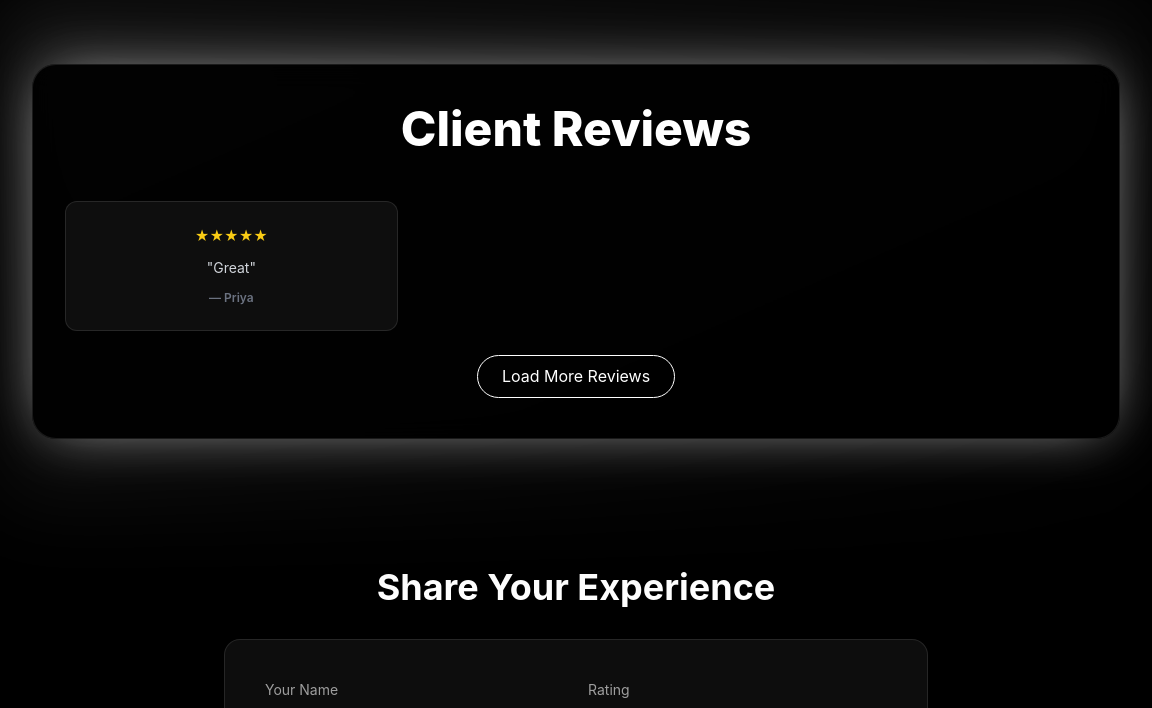
Test: Load More failure shows an error and does not crash
Expected: the text "— Priya" is shown, x1=209 y1=290 x2=254 y2=305
Step 1. Click the button "Load More Reviews" → (576, 376), box x1=477 y1=355 x2=675 y2=398
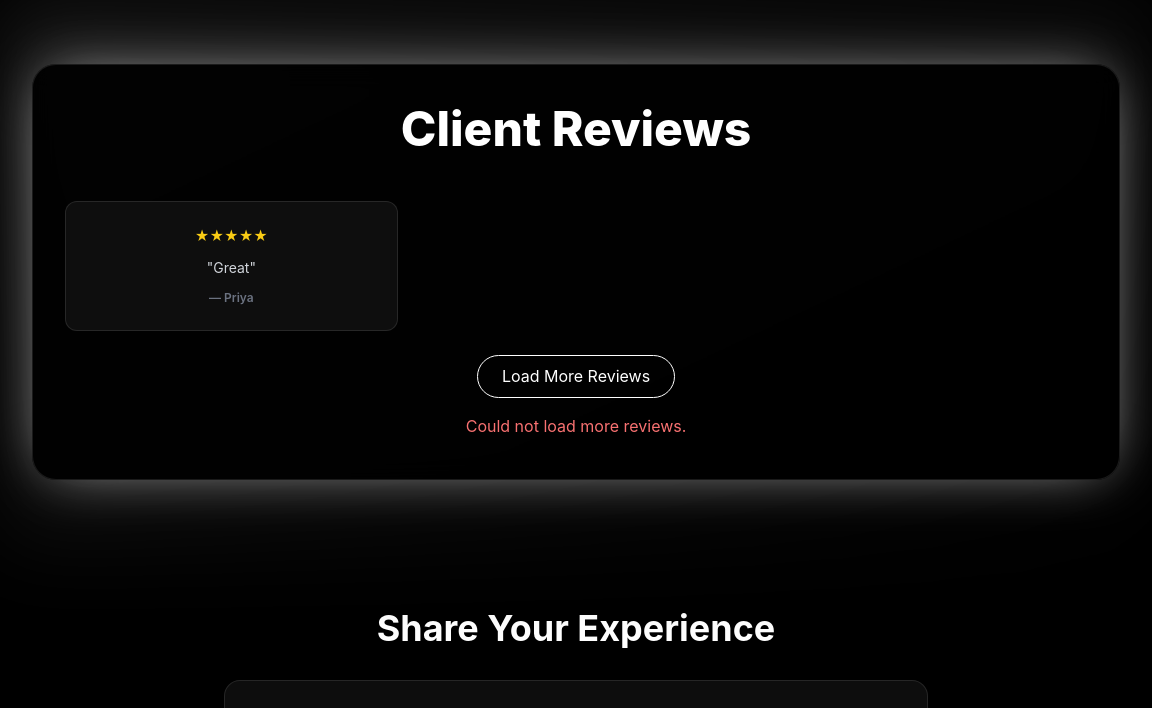
Expected: the text "— Priya" is shown, x1=209 y1=290 x2=254 y2=305
Now the text "Could not load more reviews." is shown, box x1=466 y1=416 x2=686 y2=436
